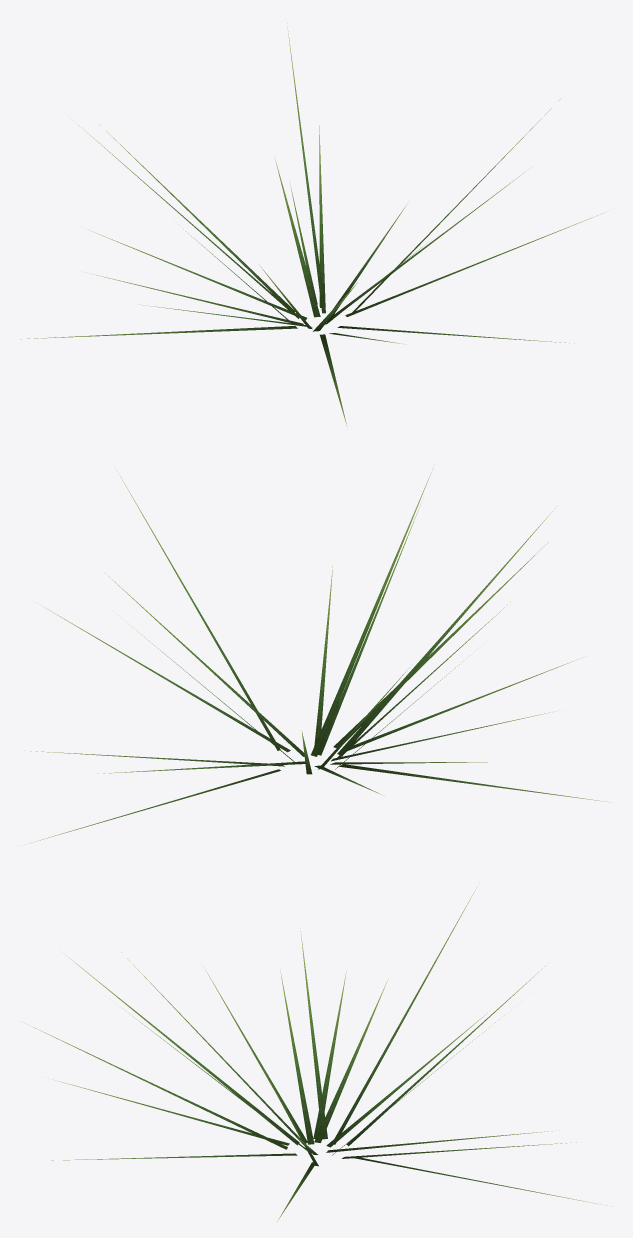
File: Tall_grass.lod2.glb
3 renders of one model, top to bottom at view 1: azimuth 30°, elevation 25°; view 2: azimuth 150°, elevation 25°; view 3: azimuth 270°, elevation 25°, orthographic. The views are drawn at different scales.
Visible parts, largest first — view 1: Grass; view 2: Grass; view 3: Grass.
Boxes of the visible parts, x1,y1,x2,y2 form: Grass: (20,23,603,426); Grass: (30,466,611,843); Grass: (27,882,607,1221).
Size of the model in its own units: 2.03 by 0.7008 by 1.89.
Materials: 1 (1 with a texture image).
